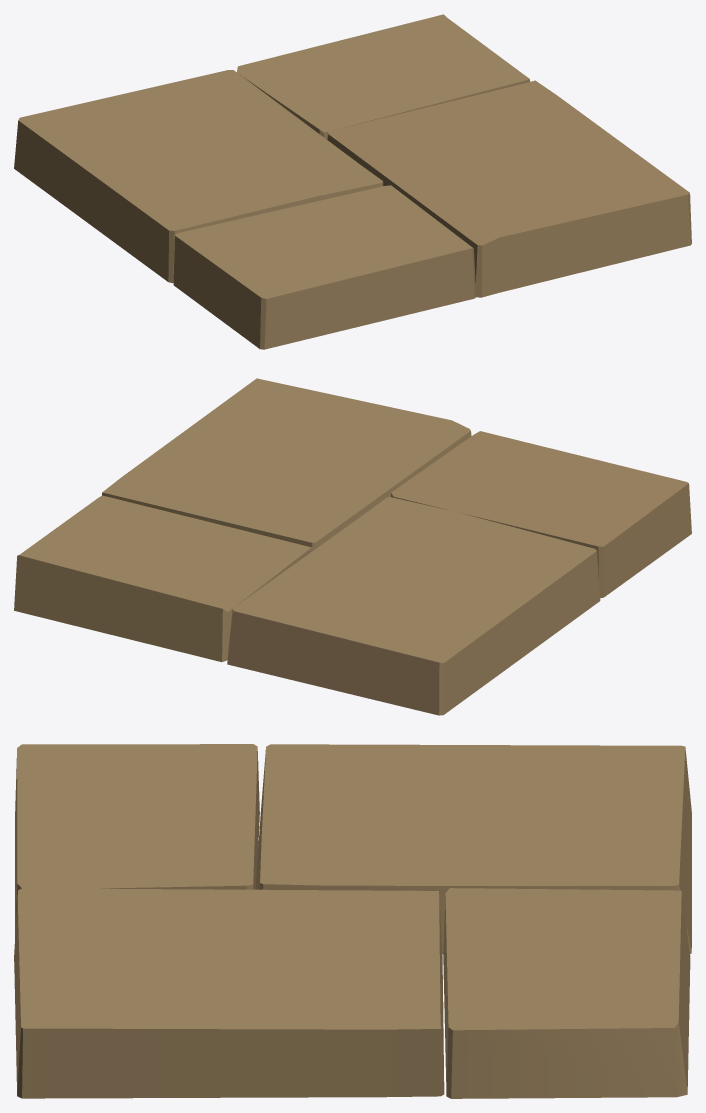
Rendered from Floor.fbx.
3 renders of one model, top to bottom at view 1: azimuth 30°, elevation 25°; view 2: azimuth 150°, elevation 25°; view 3: azimuth 270°, elevation 25°, orthographic. The views are drawn at different scales.
Visible parts, largest first — view 1: Floor; view 2: Floor; view 3: Floor.
Part boxes in pixels (x1,y1,x2,y2): Floor: (14,14,691,349); Floor: (14,378,691,715); Floor: (14,744,691,1098).
Size of the model in its own units: 2 by 0.2425 by 2.
